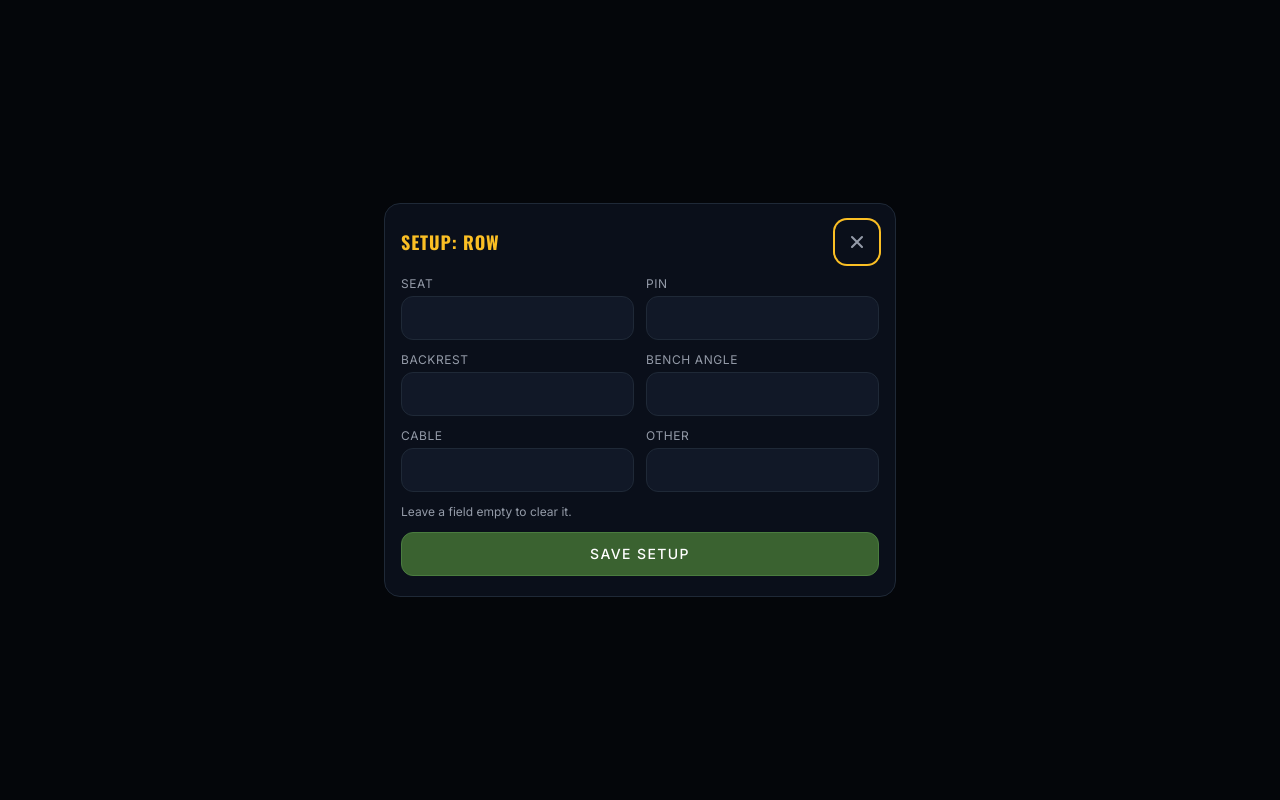
Test: SetupSheet results › a save answering unsupported switches to the read-only notice and stays open
Click the button with test id "setup-save" at point(640, 554), box [401,532,879,576]
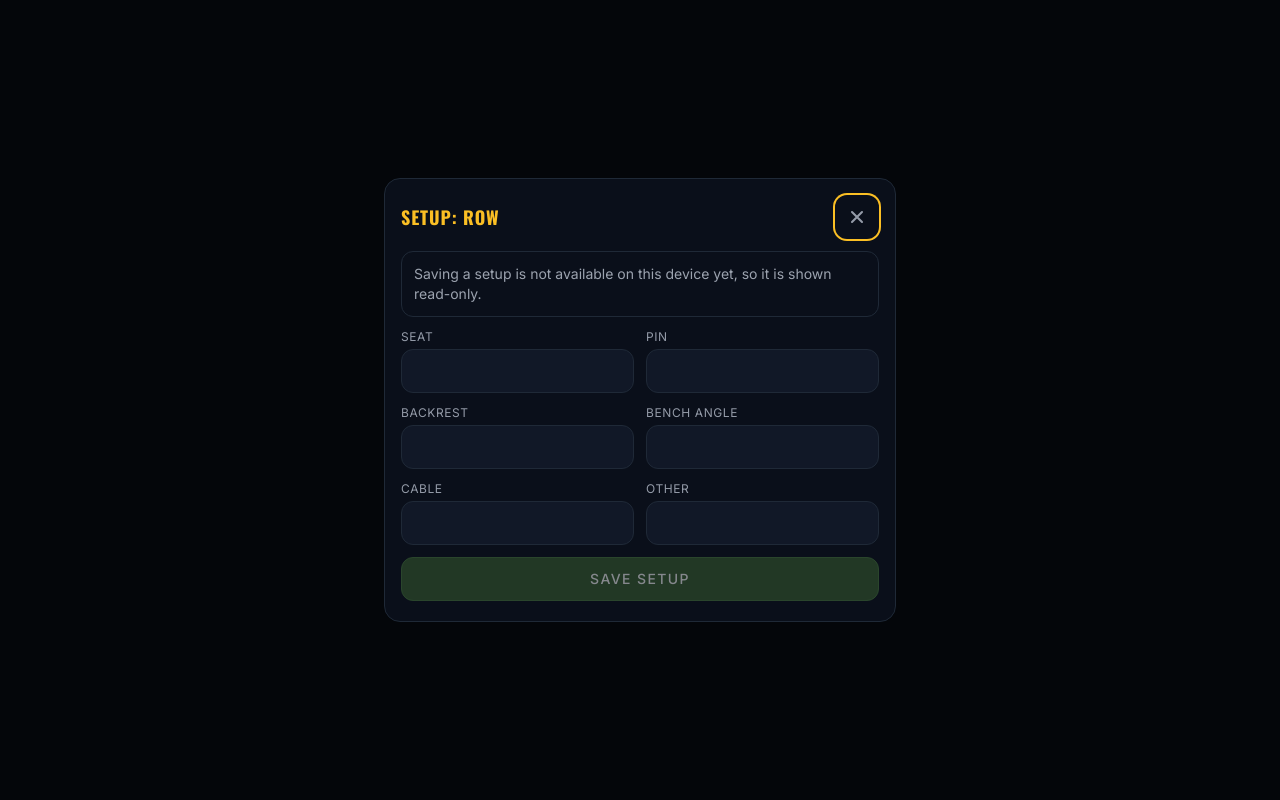
expect the message "Saving a setup is not available on this device yet, so it is shown read-only." is shown: met, box [401,251,879,317]
expect the button with test id "setup-save" is disabled: met, box [401,557,879,601]
